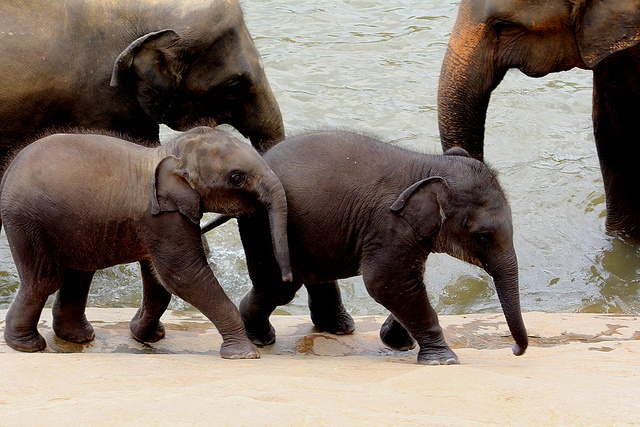elephant: (236, 127, 528, 363), (1, 123, 291, 360), (5, 1, 283, 186), (437, 1, 639, 235)
